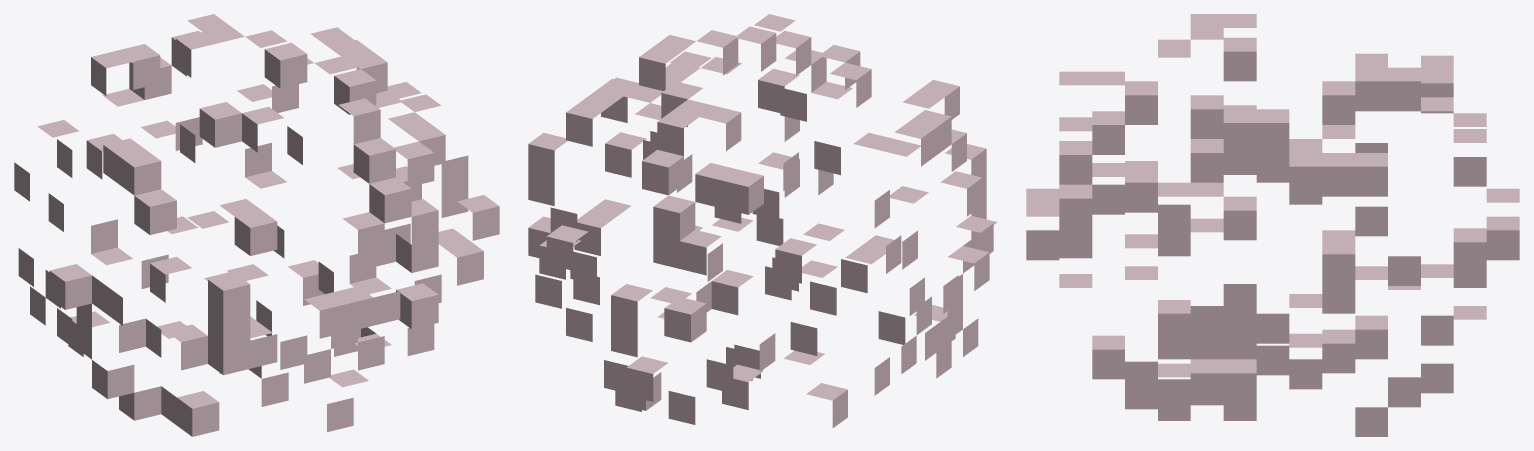
File: tree-cherry-1p3-white-ffe3ec.gltf
3 views of the same model, side by side, from view 1: azimuth 30°, elevation 25°; view 2: azimuth 150°, elevation 25°; view 3: azimuth 270°, elevation 25° (orthographic). The views are drawn at different scales.
Visible parts, largest first — view 1: tree-cherry-1p3-white-ffe3ec; view 2: tree-cherry-1p3-white-ffe3ec; view 3: tree-cherry-1p3-white-ffe3ec.
Part boxes in pixels (x1,y1,x2,y2): tree-cherry-1p3-white-ffe3ec: (14,14,499,436); tree-cherry-1p3-white-ffe3ec: (528,14,997,427); tree-cherry-1p3-white-ffe3ec: (1026,14,1519,436).
Bounding box in the file's own units: 15 × 12 × 15.
